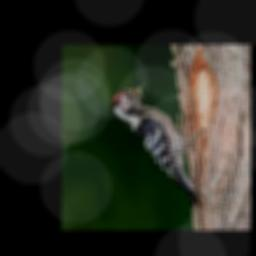Woodpecker: (111, 81, 207, 205)
